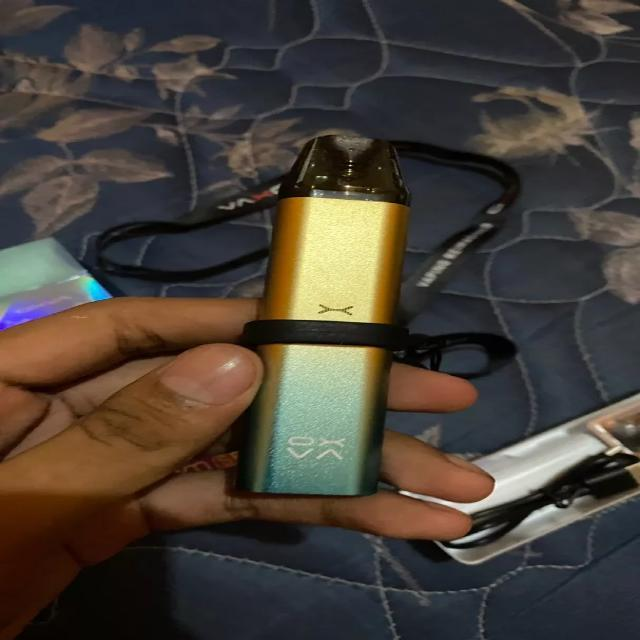Hazard: (229, 134, 414, 496)
